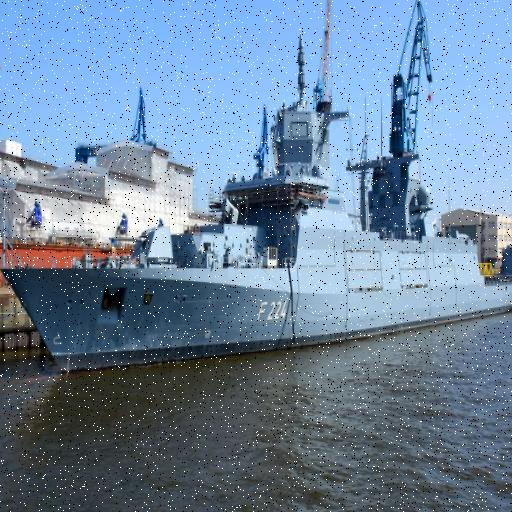Fragata: (1, 42, 512, 381)
